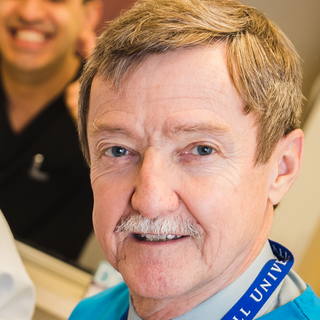eye: (93, 134, 147, 169), (169, 140, 235, 164)
